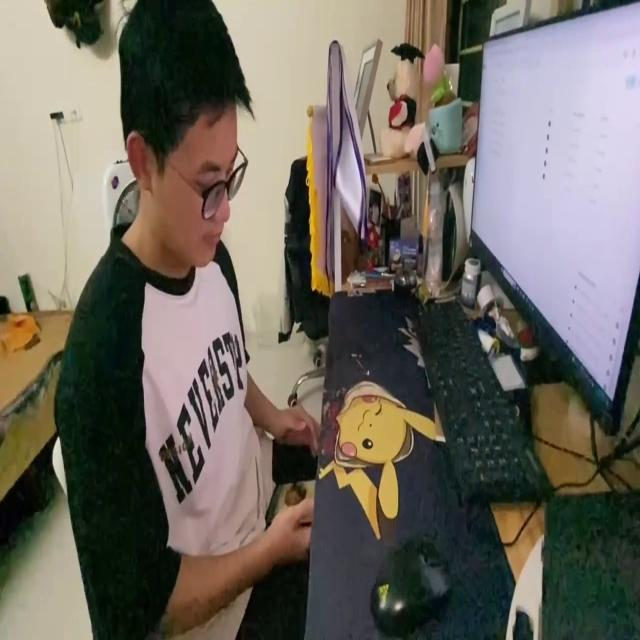laptop: (464, 0, 640, 436)
phone: (270, 427, 318, 490)
student: (51, 0, 318, 640)
